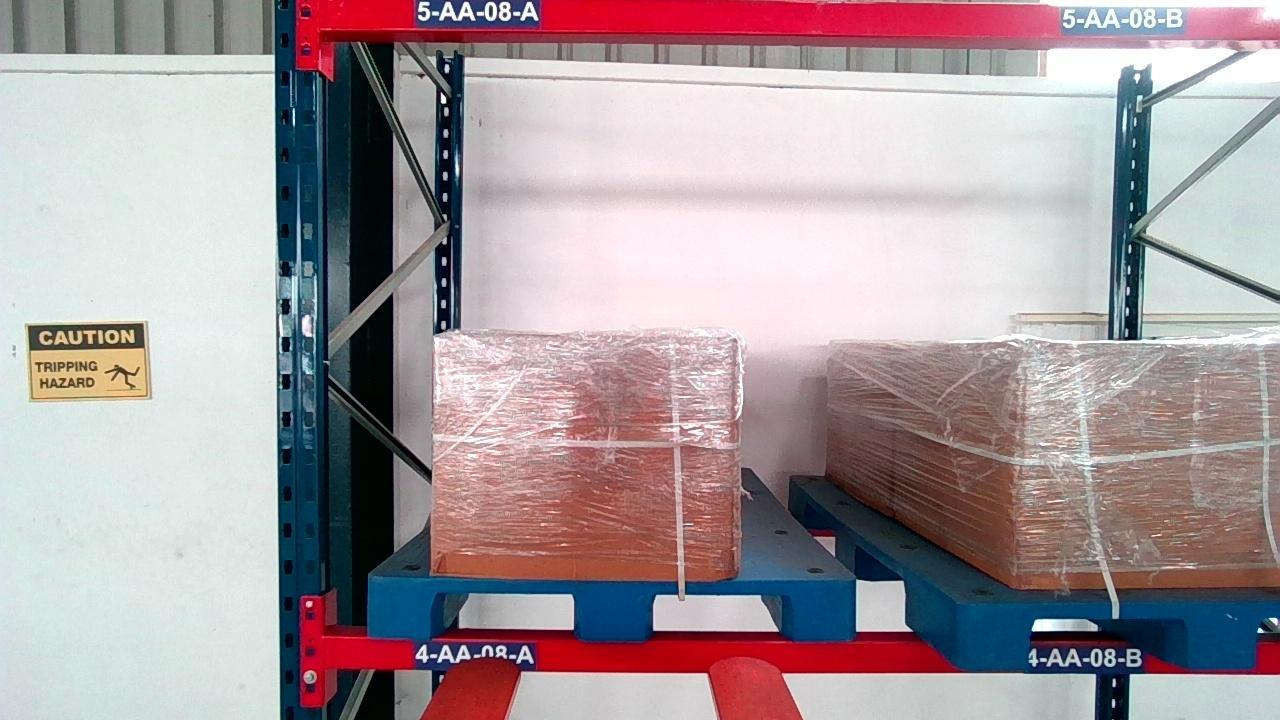h_rack: (324, 634, 1280, 673), (325, 0, 1280, 37)
small_pallet: (367, 576, 858, 637), (961, 603, 1279, 667)
